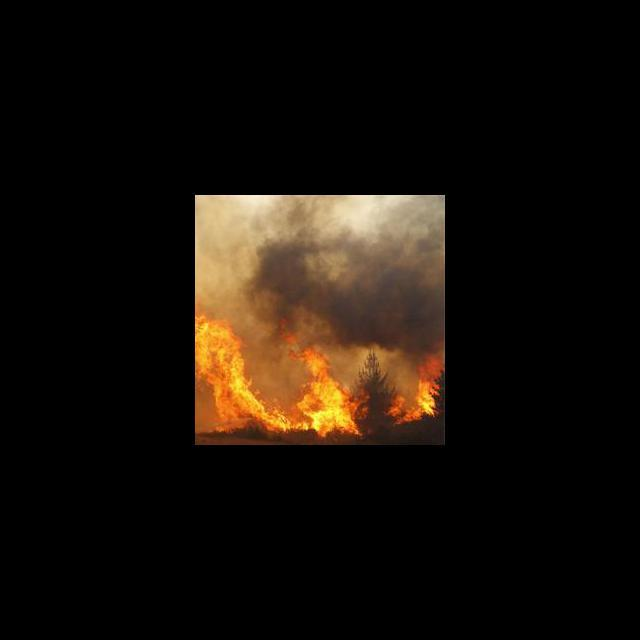Fire: (196, 315, 368, 437), (388, 358, 445, 425)
Smoke: (257, 198, 445, 342)
